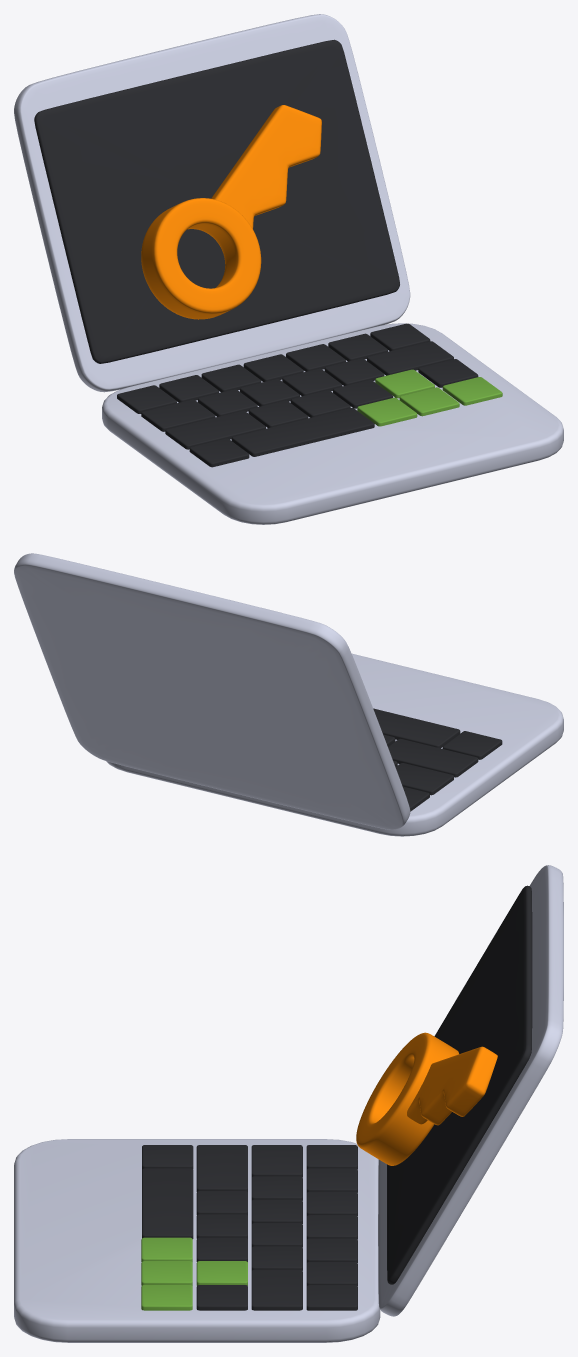
The model's file is system-protection-animated-3d-icon-77588332807.glb.
3 views of the same model, one above another, from view 1: azimuth 30°, elevation 25°; view 2: azimuth 150°, elevation 25°; view 3: azimuth 270°, elevation 25° (orthographic). The views are drawn at different scales.
Parts seen in each view (by area): view 1: Screen.001, Body.001, Bezel, Buttons 1, Key, Buttons 2; view 2: Bezel, Body.001, Buttons 1; view 3: Body.001, Buttons 1, Screen.001, Bezel, Key, Buttons 2.
Part boxes in pixels (x1,y1,x2,y2): Screen.001: [34, 39, 399, 363]; Body.001: [102, 323, 563, 524]; Bezel: [14, 14, 410, 392]; Buttons 1: [117, 323, 478, 467]; Key: [141, 105, 321, 319]; Buttons 2: [357, 369, 502, 426]; Bezel: [14, 553, 410, 829]; Body.001: [106, 653, 563, 836]; Buttons 1: [373, 708, 502, 811]; Body.001: [14, 1139, 380, 1342]; Buttons 1: [142, 1145, 357, 1310]; Screen.001: [387, 885, 532, 1284]; Bezel: [378, 865, 563, 1316]; Key: [356, 1032, 497, 1165]; Buttons 2: [141, 1237, 247, 1310].
Bounding box in the file's own units: 1.43 × 1.11 × 1.79.
